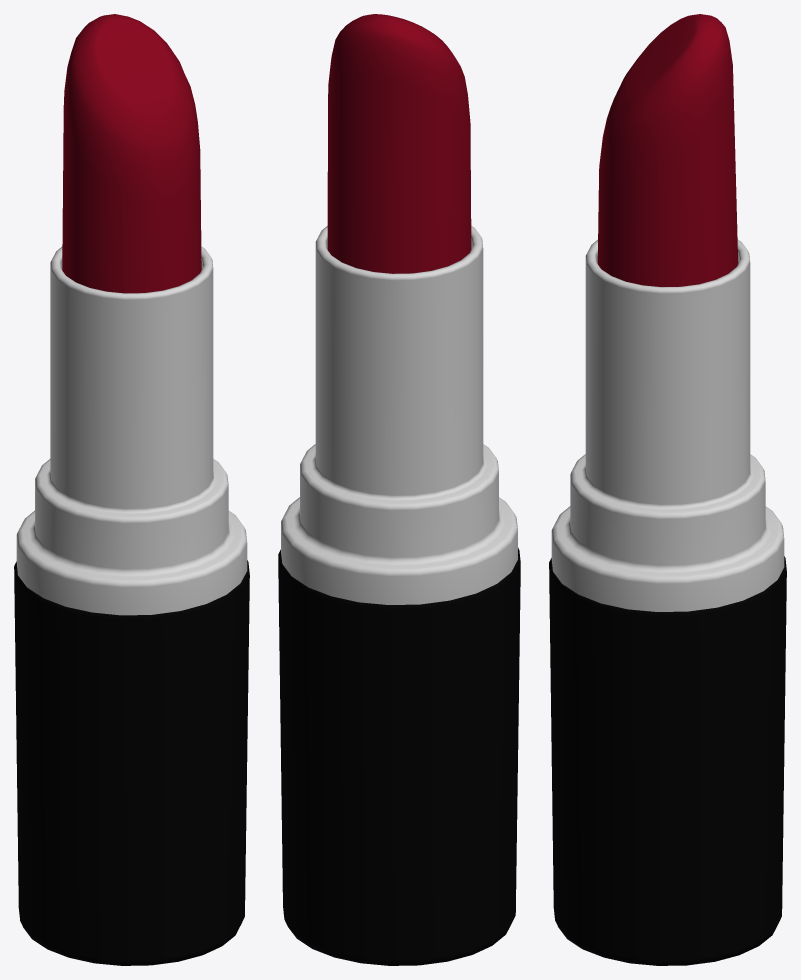
Rendered from lipstick.glb.
The picture shows the model from 3 angles, left to right: view 1: azimuth 30°, elevation 25°; view 2: azimuth 150°, elevation 25°; view 3: azimuth 270°, elevation 25°; orthographic projection. The views are drawn at different scales.
Parts seen in each view (by area): view 1: lipstick_1, lipstick_2, lipstick_3; view 2: lipstick_1, lipstick_2, lipstick_3; view 3: lipstick_1, lipstick_2, lipstick_3.
Boxes of the visible parts, x1=… form: lipstick_1: x1=14, y1=560, x2=249, y2=965; lipstick_2: x1=16, y1=246, x2=247, y2=615; lipstick_3: x1=62, y1=14, x2=201, y2=293; lipstick_1: x1=278, y1=547, x2=520, y2=965; lipstick_2: x1=281, y1=225, x2=517, y2=604; lipstick_3: x1=327, y1=14, x2=471, y2=273; lipstick_1: x1=549, y1=556, x2=786, y2=965; lipstick_2: x1=551, y1=239, x2=784, y2=611; lipstick_3: x1=597, y1=14, x2=738, y2=286.
Size of the model in its own units: 3.24 by 13.55 by 3.24.
1 material, 1 textured.
